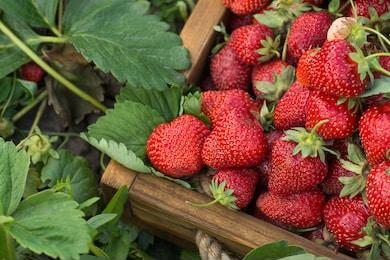Fresa: (199, 101, 271, 174), (295, 37, 372, 105), (143, 111, 214, 184), (266, 126, 331, 202), (321, 189, 382, 257), (226, 21, 280, 70)
